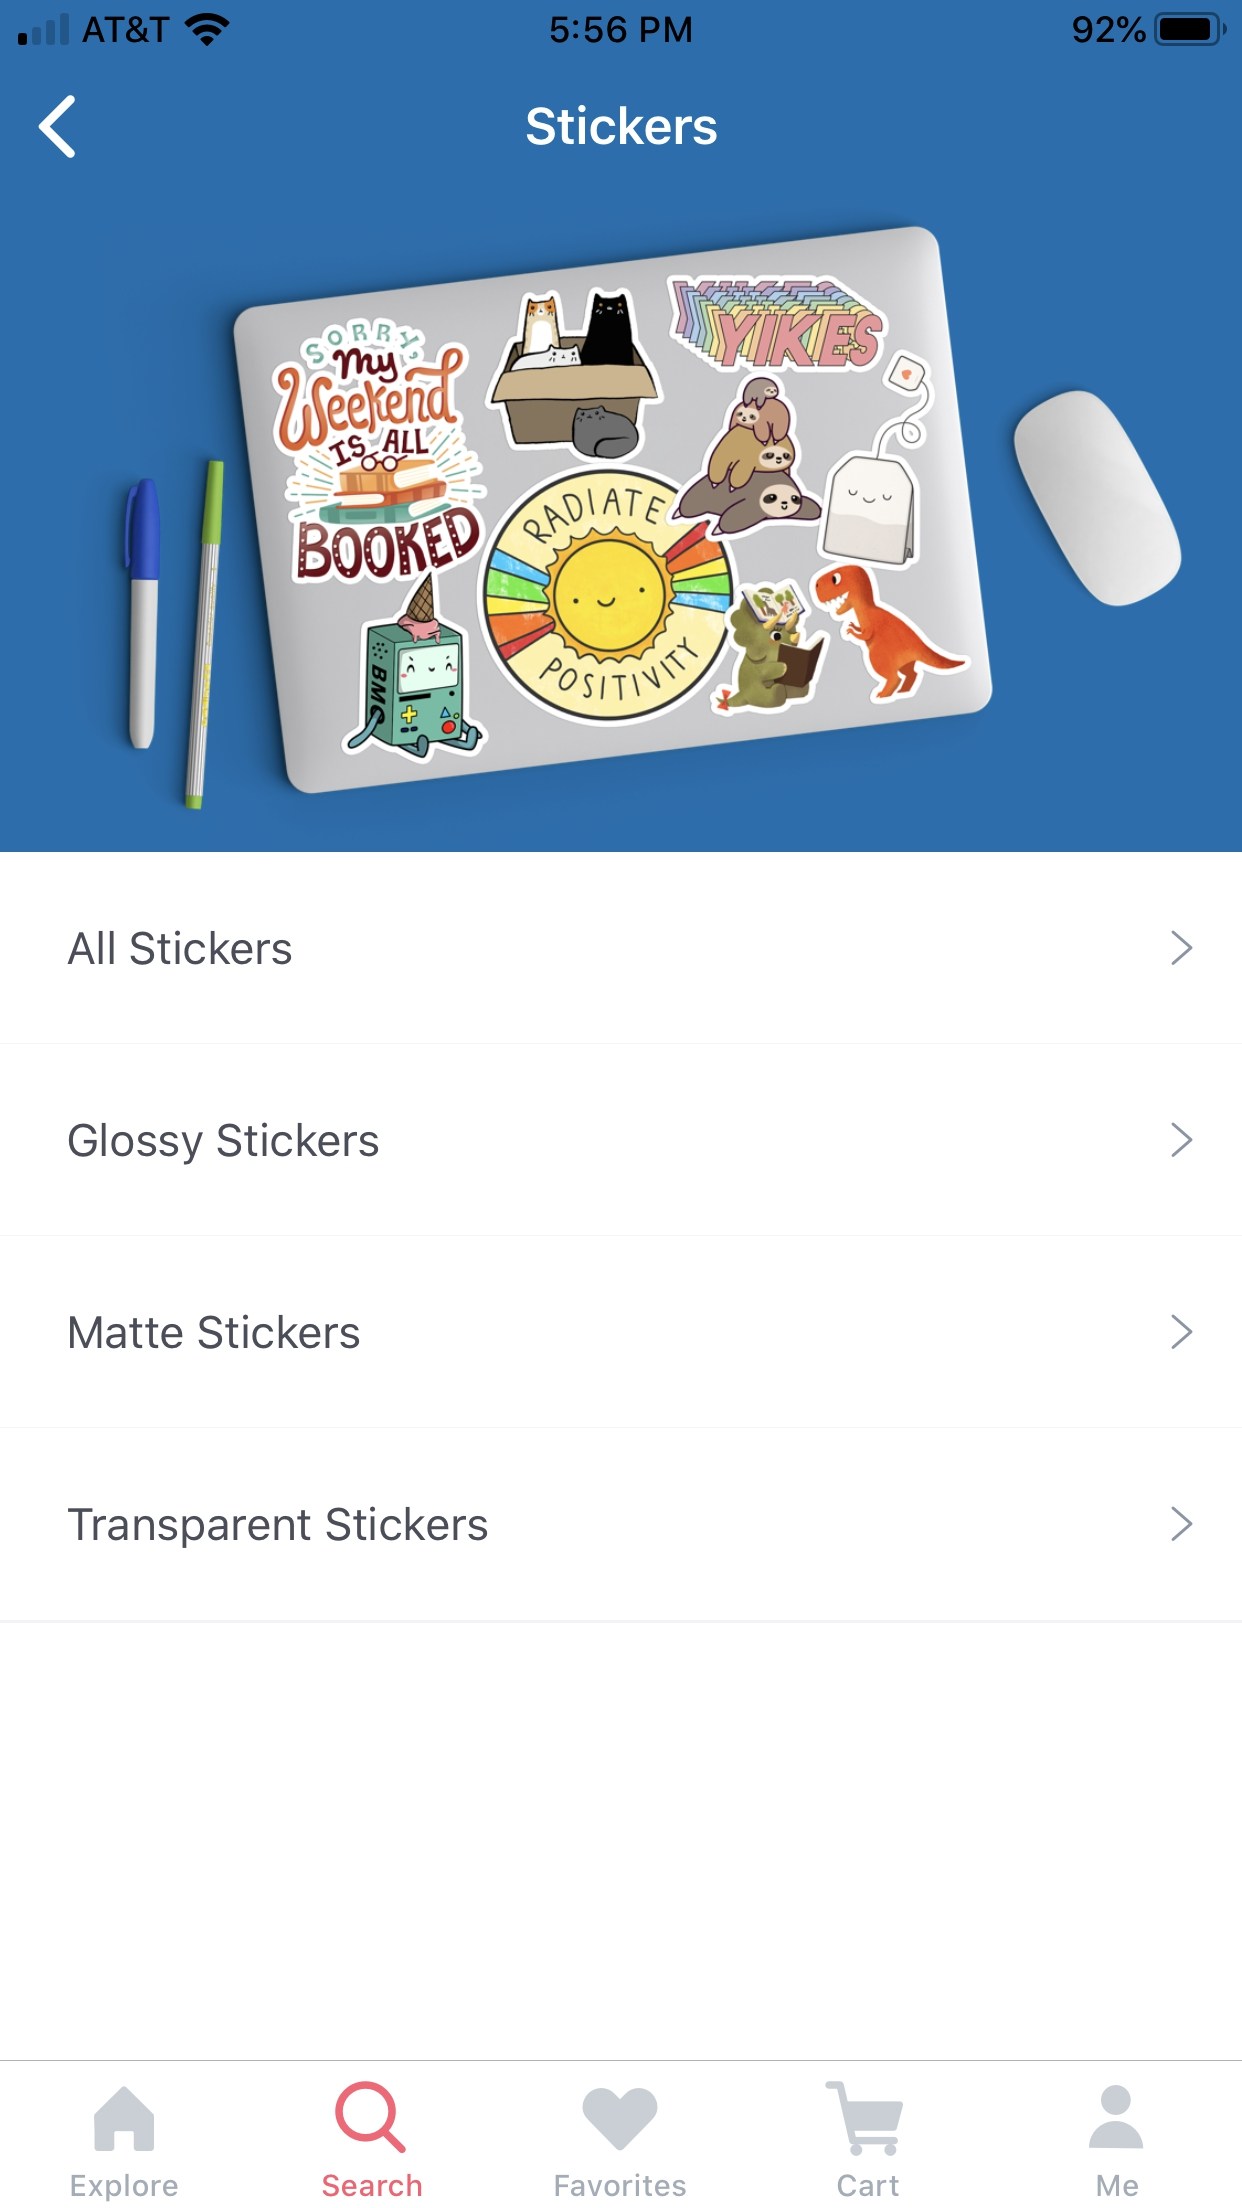Icon: (825, 2081, 902, 2156), (335, 2081, 406, 2153), (582, 2087, 658, 2150), (94, 2085, 155, 2150), (1089, 2085, 1143, 2149), (38, 94, 77, 159), (1171, 1313, 1193, 1350), (1171, 1506, 1193, 1541), (1171, 1122, 1193, 1157), (1171, 930, 1193, 964)
Image: (2, 2, 1242, 852)
Text: (68, 1506, 488, 1548), (68, 1122, 379, 1165), (70, 1313, 359, 1350), (67, 930, 293, 964), (526, 105, 717, 146), (555, 2172, 685, 2197), (71, 2172, 179, 2202), (321, 2173, 422, 2197), (837, 2173, 899, 2197), (1096, 2173, 1137, 2197)
UpperTaskBar: (2, 2, 1242, 49)
